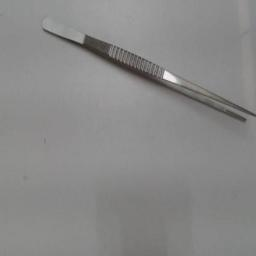DeBakey Dissector: (33, 16, 255, 136)
